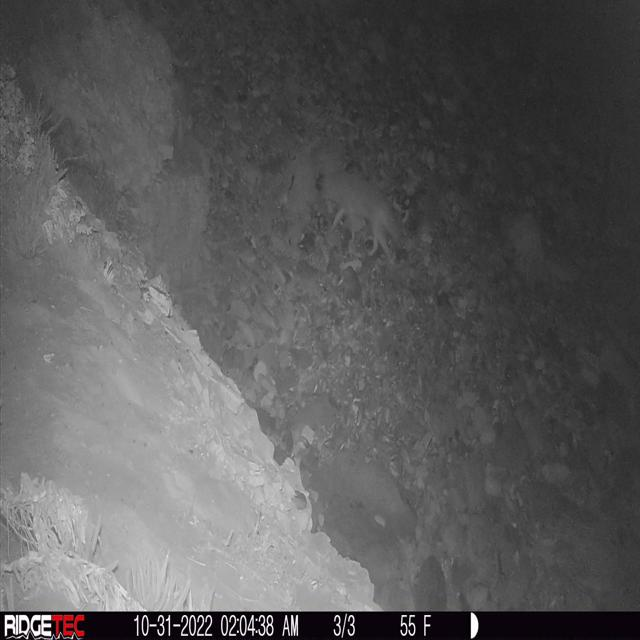coyote: (316, 169, 408, 264)
